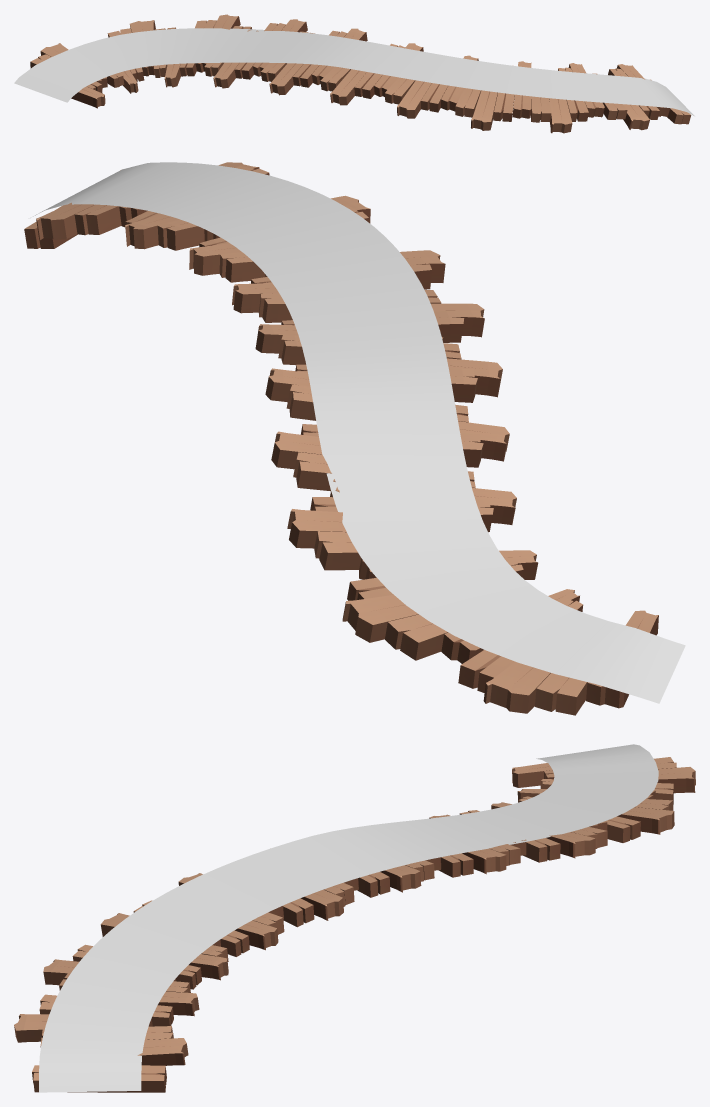
The model's file is Prop_Bridge_2_model.fbx.
3 renders of one model, top to bottom at view 1: azimuth 30°, elevation 25°; view 2: azimuth 150°, elevation 25°; view 3: azimuth 270°, elevation 25°, orthographic. The views are drawn at different scales.
Parts seen in each view (by area): view 1: Prop_Bridge_2_Nav, Prop_Bridge_2_model; view 2: Prop_Bridge_2_Nav, Prop_Bridge_2_model; view 3: Prop_Bridge_2_Nav, Prop_Bridge_2_model.
Boxes of the visible parts, <box> form: Prop_Bridge_2_Nav: <box>14,28,694,116</box>; Prop_Bridge_2_model: <box>30,14,691,133</box>; Prop_Bridge_2_Nav: <box>33,162,685,703</box>; Prop_Bridge_2_model: <box>24,162,658,715</box>; Prop_Bridge_2_Nav: <box>39,744,658,1092</box>; Prop_Bridge_2_model: <box>14,757,695,1092</box>.
Size of the model in its own units: 21.39 by 2.13 by 17.73.
